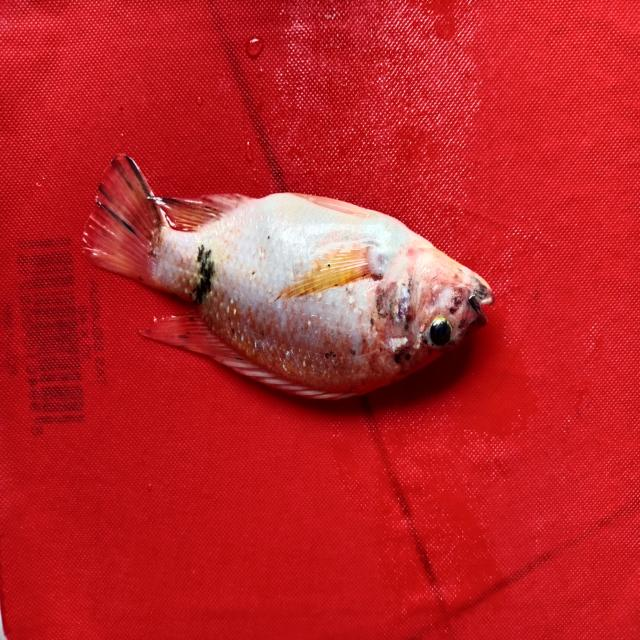ikan: (88, 141, 514, 410)
